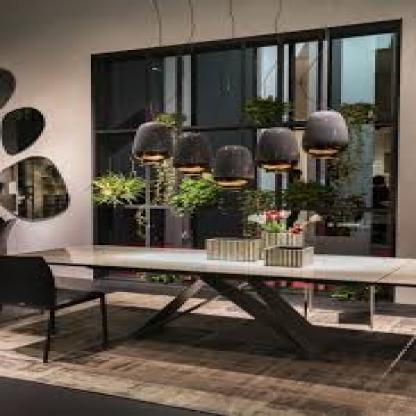Dining Table: (4, 248, 416, 366)
